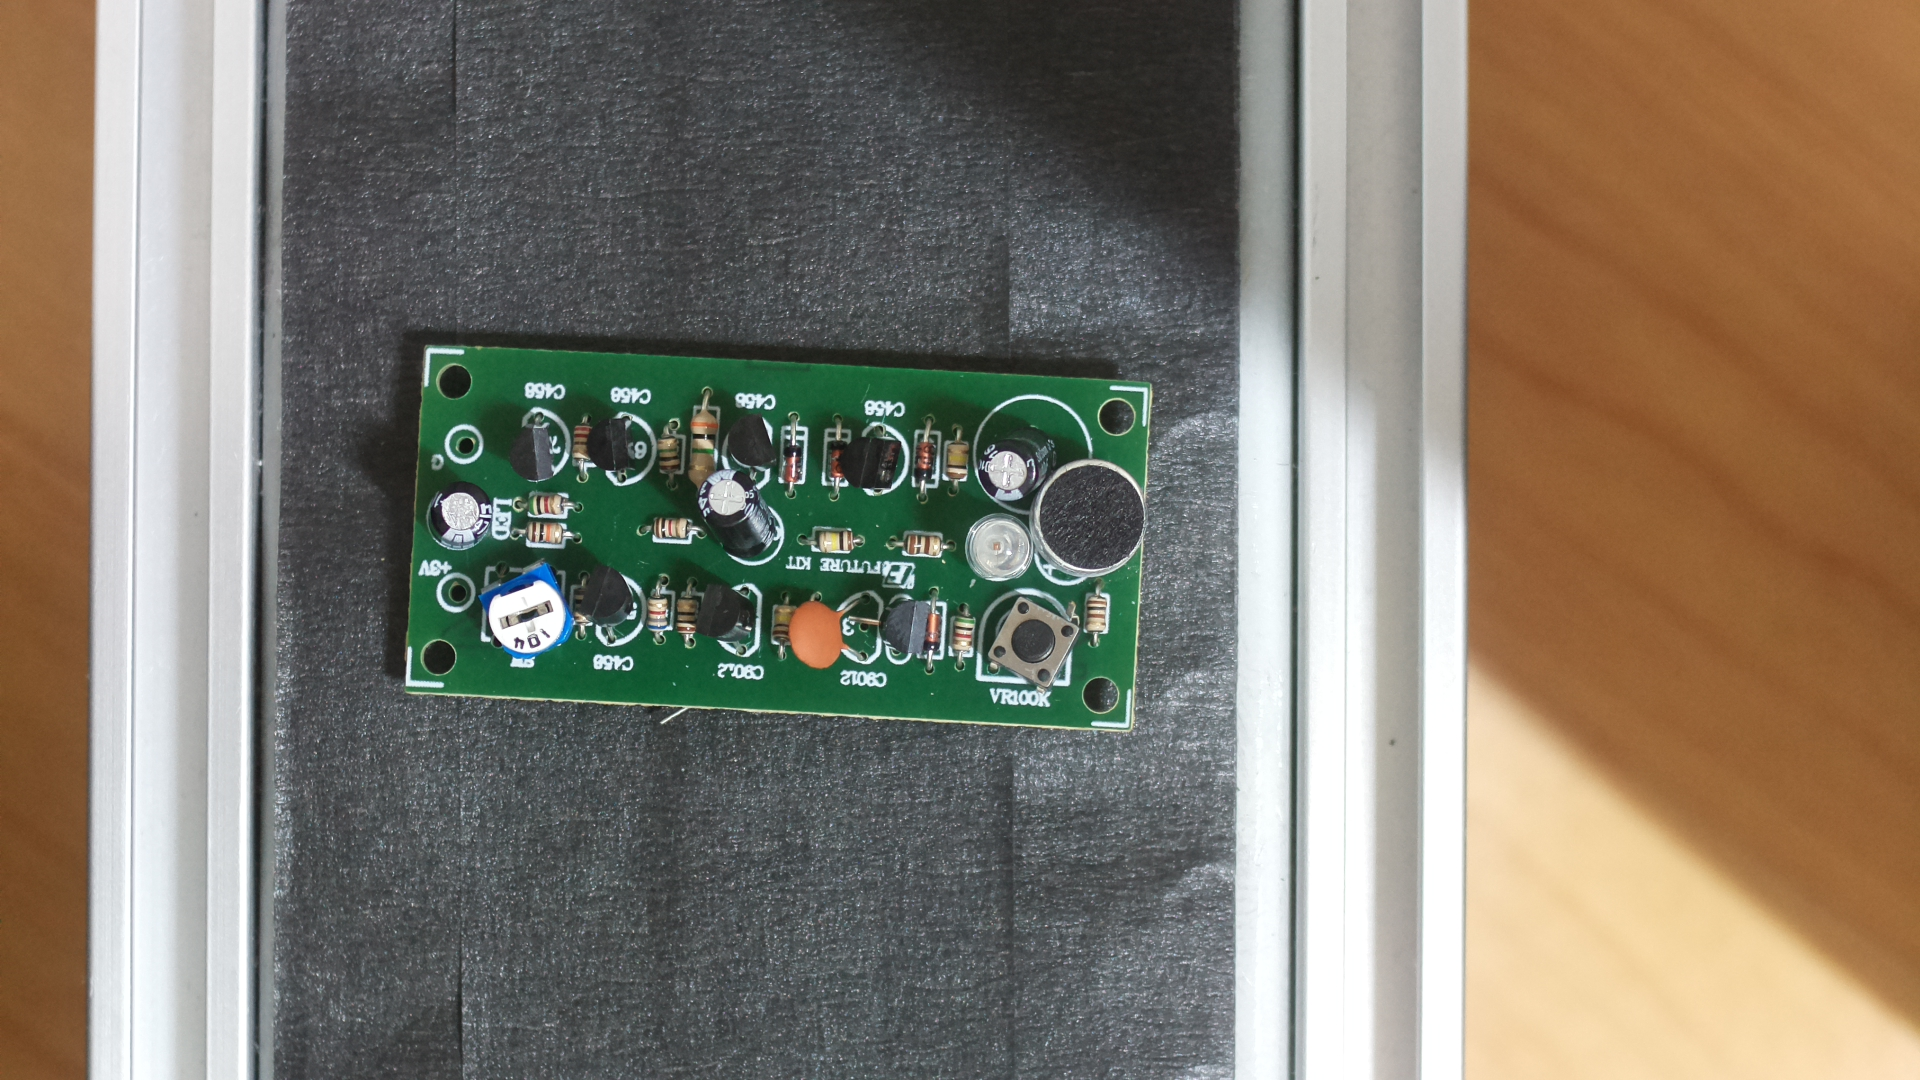A_Misordered: (386, 330, 1171, 756)
